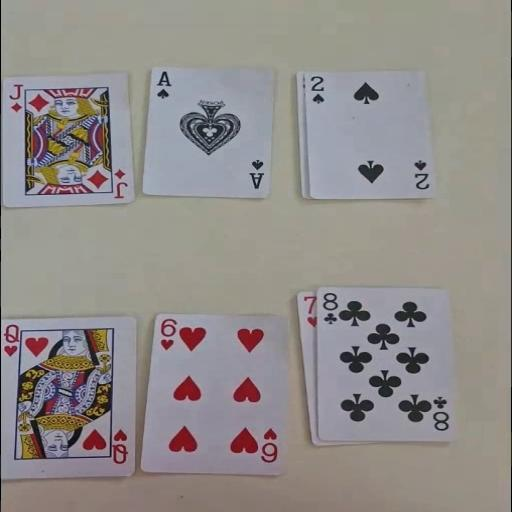2: (411, 158, 431, 190), (308, 74, 326, 104)
6: (258, 425, 278, 464), (157, 316, 178, 352)
8: (430, 394, 450, 432), (320, 290, 339, 326)
A: (246, 157, 266, 190), (154, 69, 172, 99)
J: (6, 82, 24, 114), (111, 167, 129, 199)
Q: (108, 427, 130, 465)
